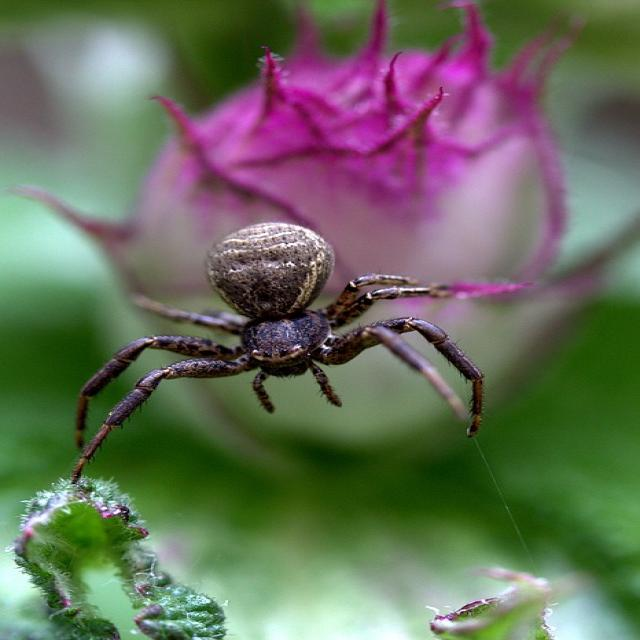spyder: (70, 222, 536, 485)
